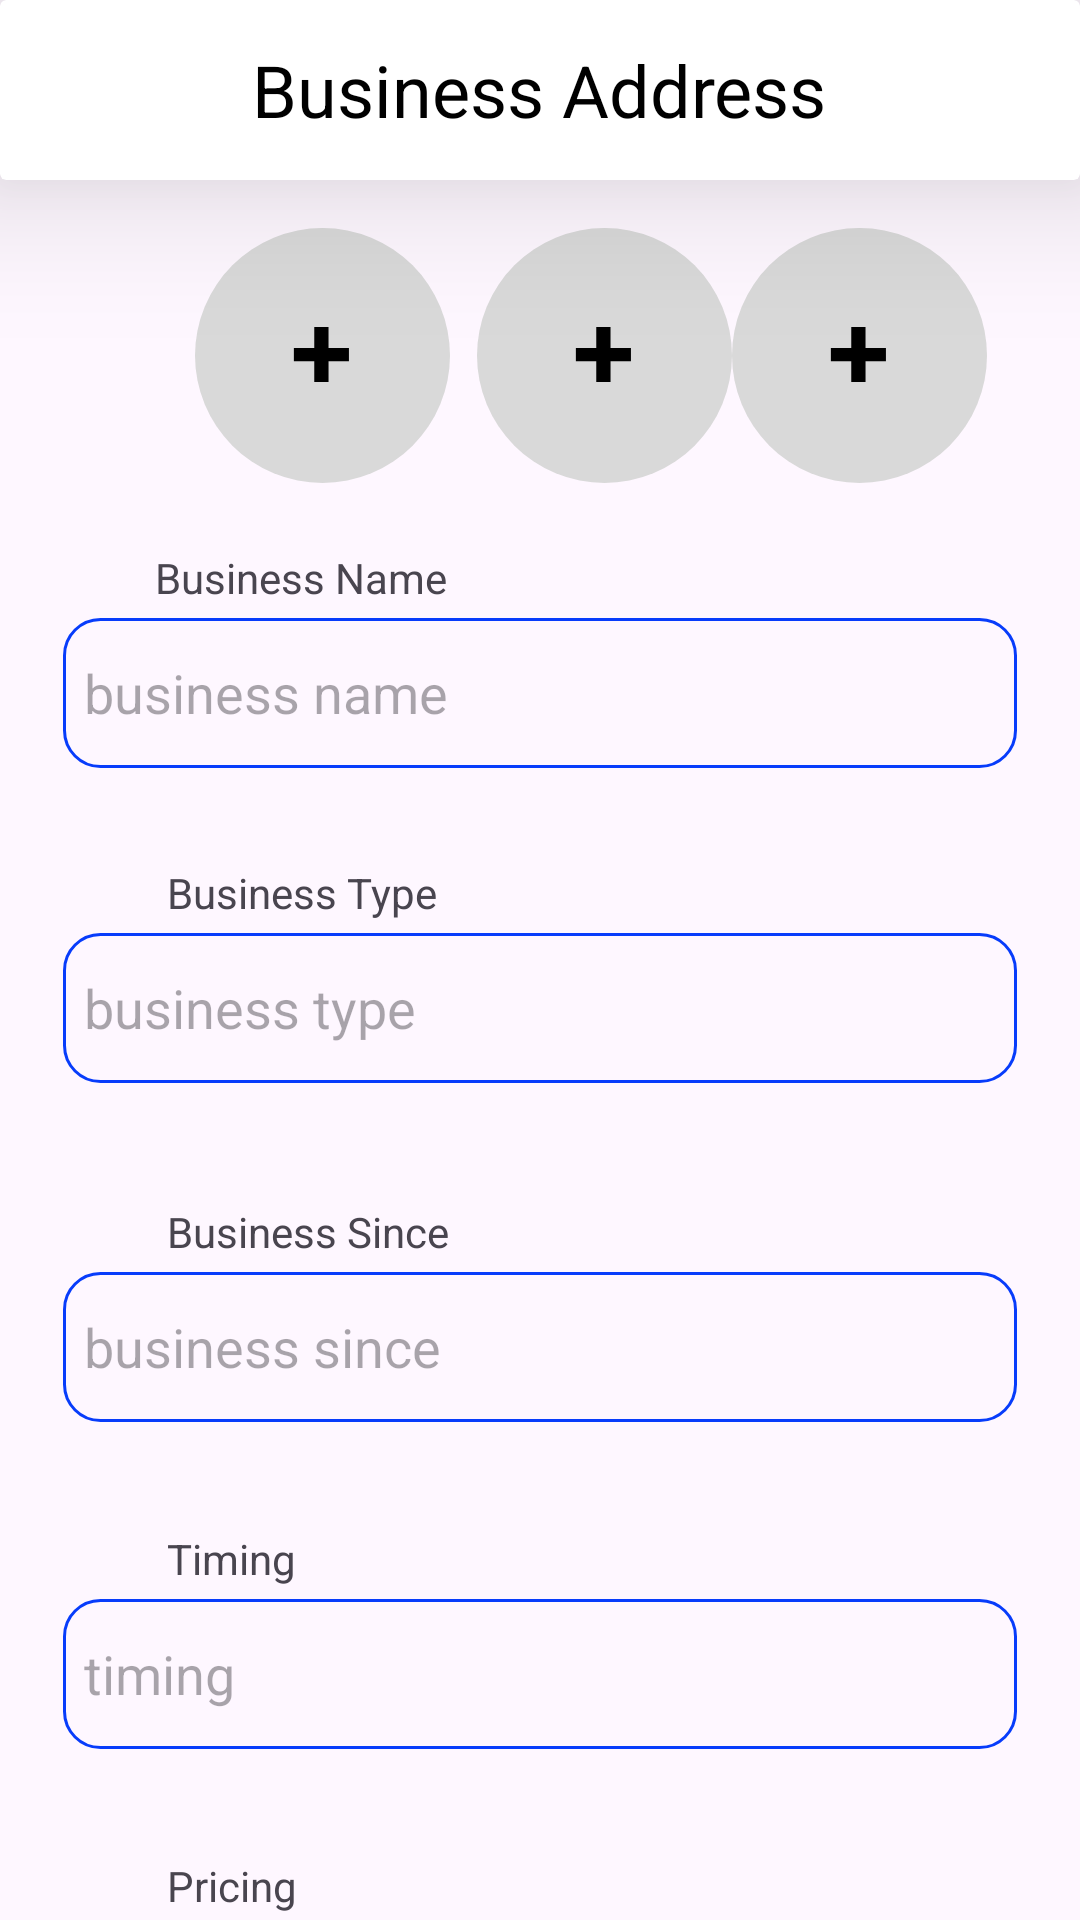

Locate icon controls on the screen. Image size 1080x1920, boxes as (x1, y1, x2, y2).
add picture: (195, 228, 450, 483), (477, 228, 732, 483), (732, 228, 987, 483)
